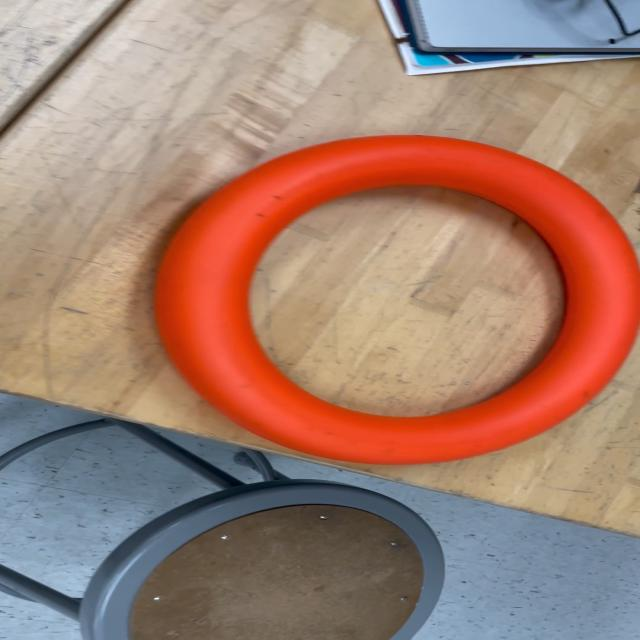note: (151, 135, 637, 464)
